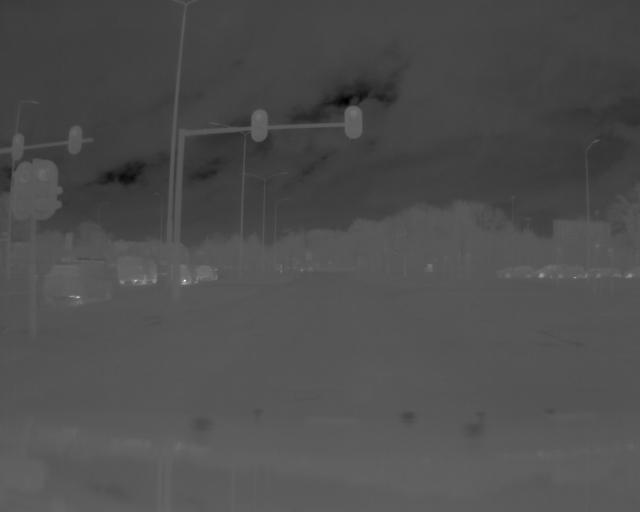car: (40, 258, 117, 306), (118, 253, 161, 288), (495, 265, 534, 280), (196, 262, 220, 283)
